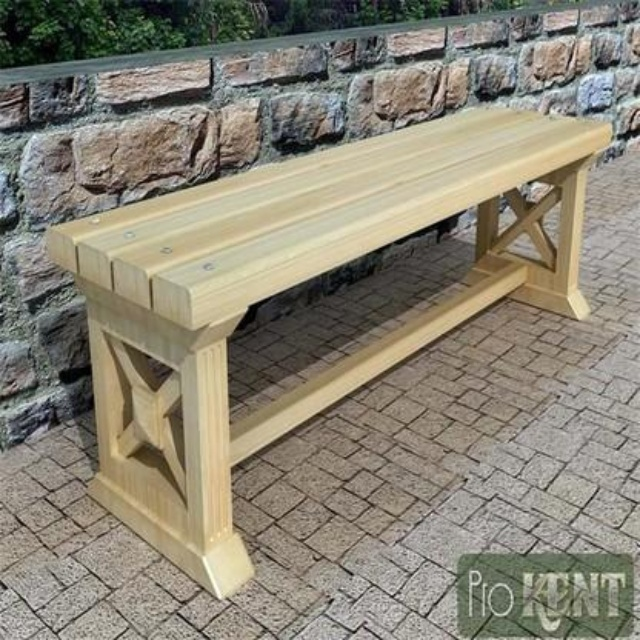obstacle: (38, 72, 620, 577)
